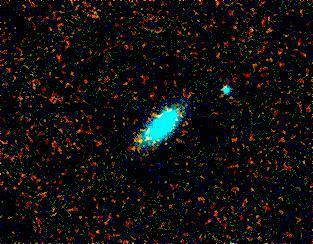star: (125, 126, 155, 156)
